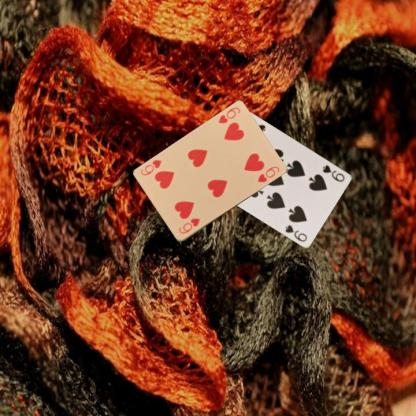6h: (216, 104, 242, 125), (176, 216, 201, 235)
9s: (320, 162, 346, 184)
